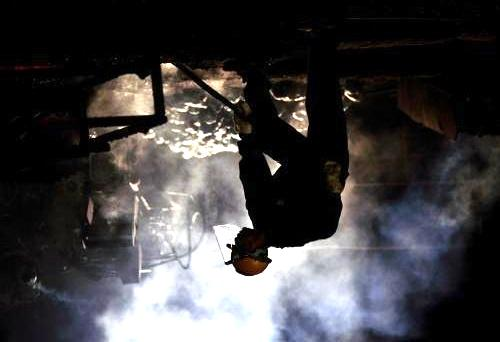helmet: (226, 227, 272, 277)
